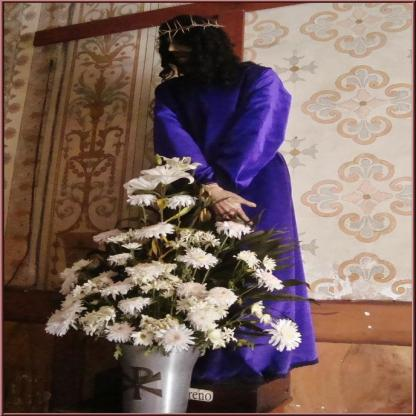vase: (120, 344, 206, 416)
